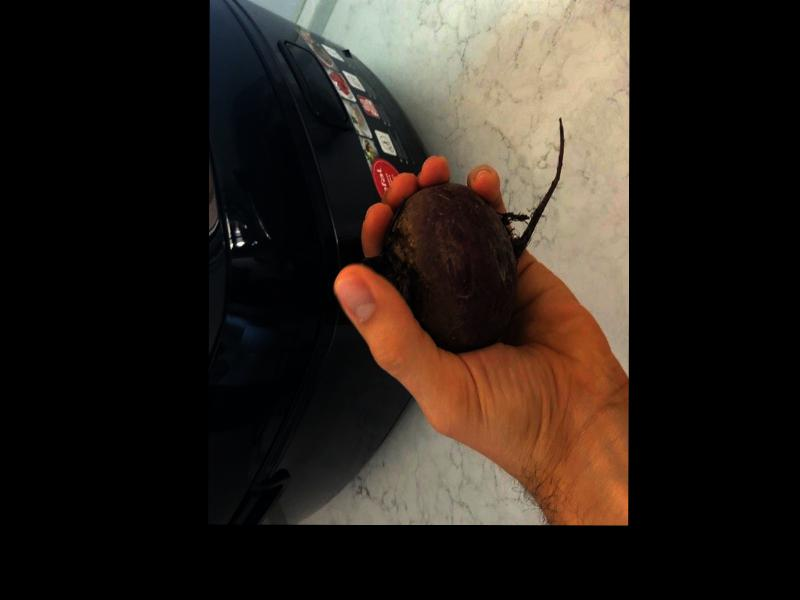Beet: (363, 117, 564, 351)
